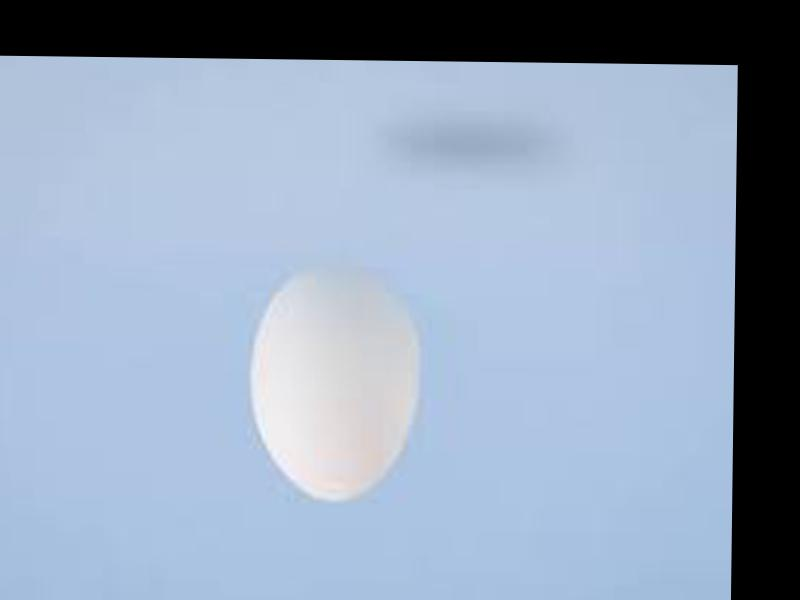Eggs: (248, 261, 423, 503)
